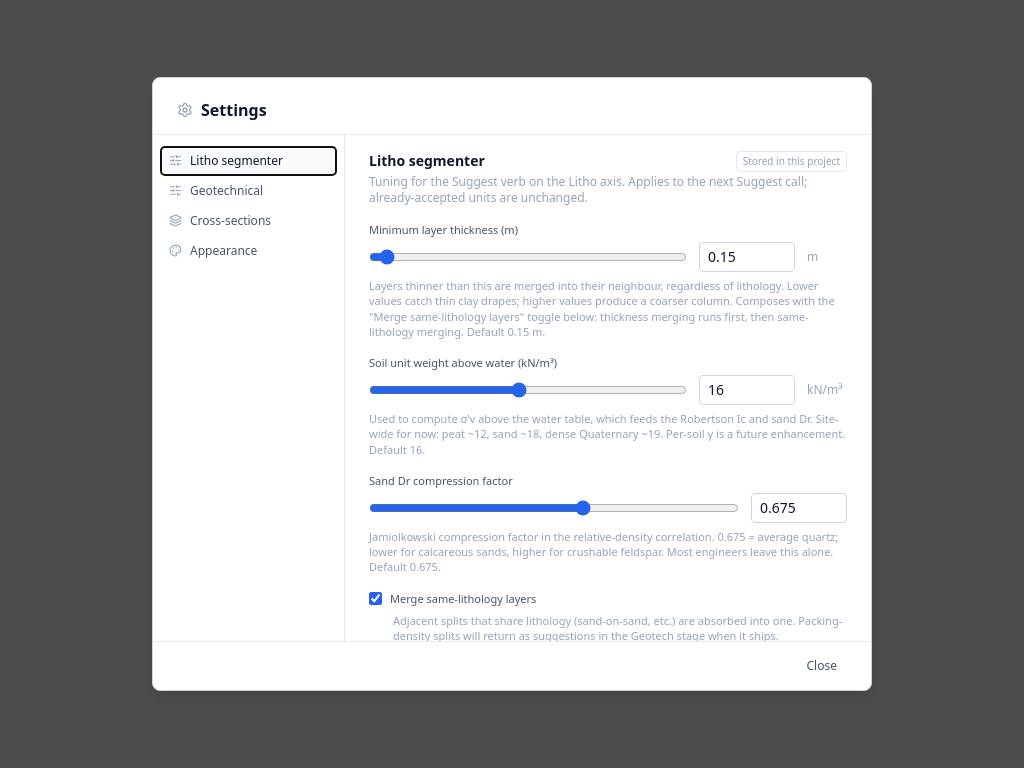
Check for updates at start › SU2 - a user who switched it off sees it off
Click the tab with test id "settings-section-appearance".
click(248, 251)  # box [161,237,336,265]
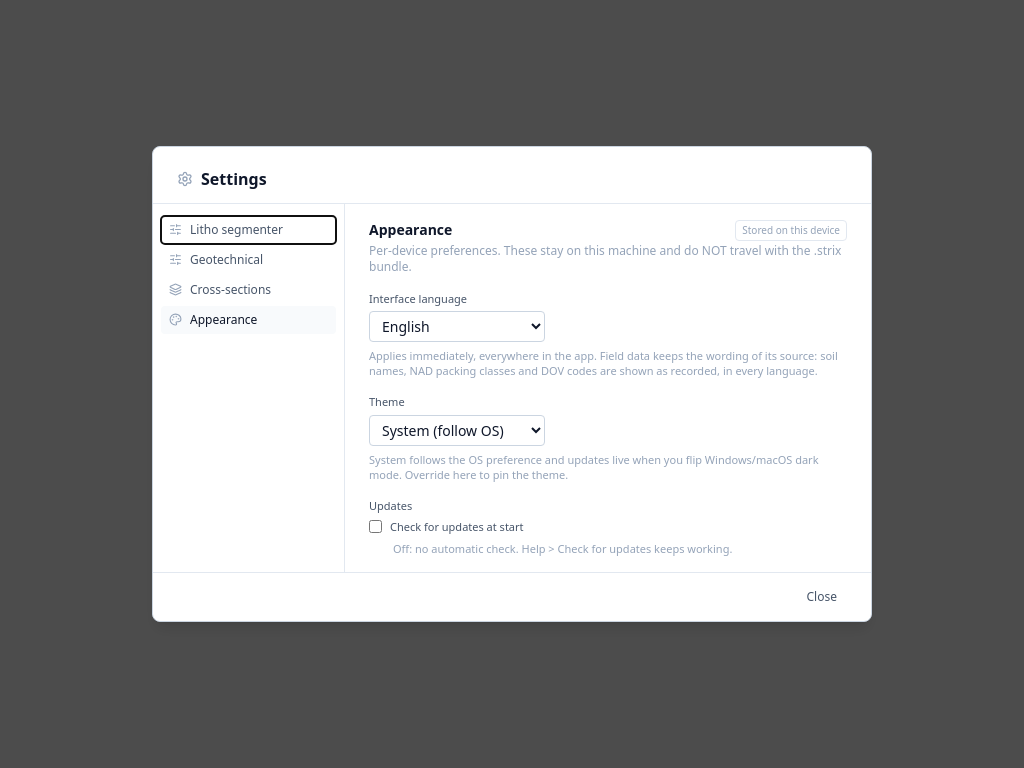
expect the checkbox with test id "settings-update-check-at-start" is not checked: met, box [369,520,382,533]
